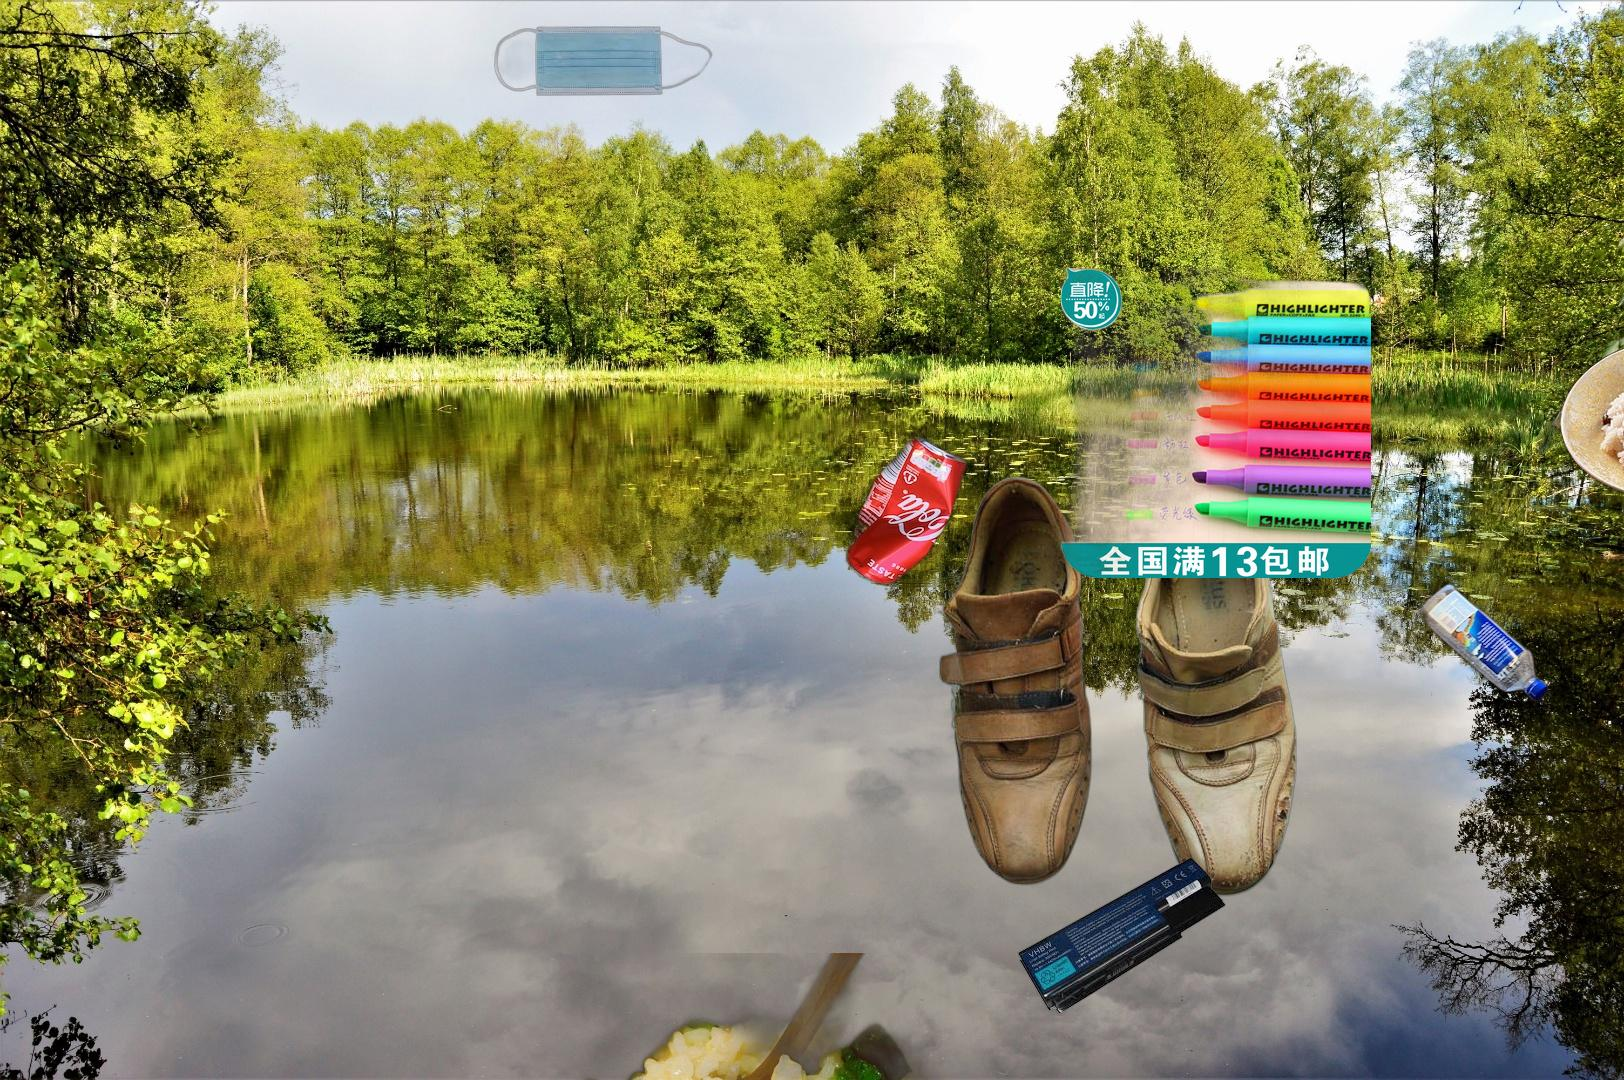battery: (1016, 855, 1228, 1017)
biological: (429, 953, 1013, 1080), (1537, 224, 1624, 504)
metal-cans: (843, 430, 971, 591)
penholder: (1061, 268, 1371, 579)
plastic-bottles: (1414, 577, 1624, 822)
shoes: (936, 472, 1300, 900)
trash: (492, 24, 714, 98)
